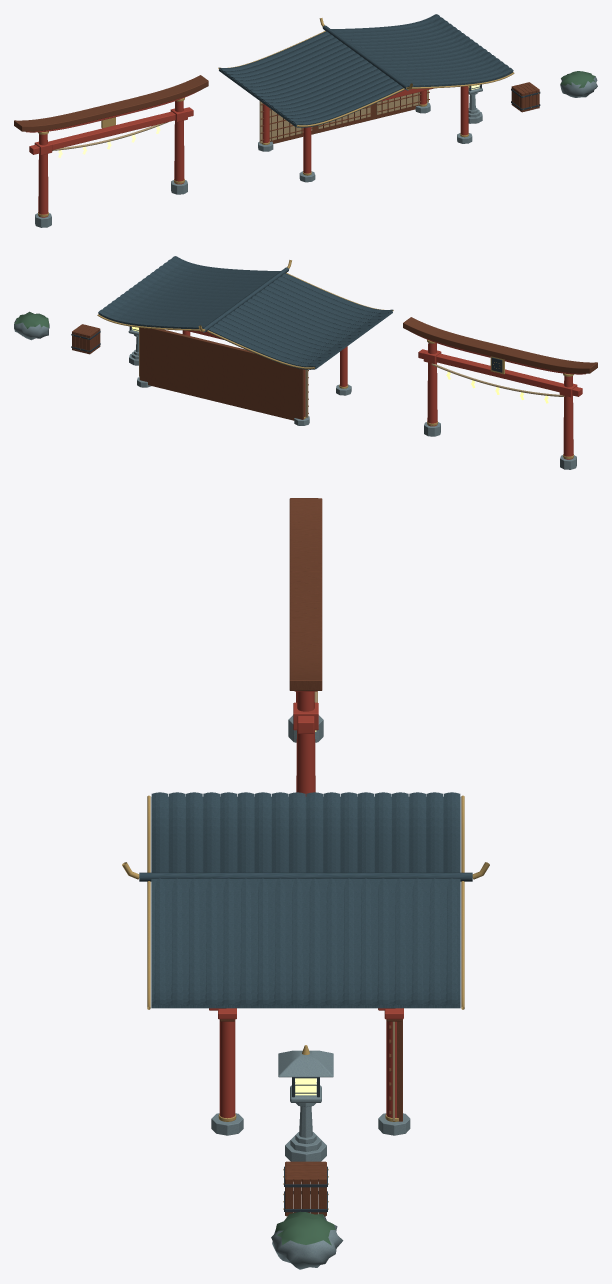
The model's file is environment-kit.glb.
3 renders of one model, top to bottom at view 1: azimuth 30°, elevation 25°; view 2: azimuth 150°, elevation 25°; view 3: azimuth 270°, elevation 25°, orthographic. The views are drawn at different scales.
Parts seen in each view (by area): view 1: Solid sweeping roof.001, Sculpted kasagi crown, Nuki crossbar, Tapered lacquer pillar, Tapered lacquer pillar.001, Recessed shoji panel, Rear wall, Recessed shoji panel.002, Solid sweeping roof, Rounded ornamental ridge, Weathered granite boulder, Rounded cedar column.003 (+5 smaller); view 2: Rear wall, Solid sweeping roof.001, Sculpted kasagi crown, Nuki crossbar, Tapered lacquer pillar, Tapered lacquer pillar.001, Solid sweeping roof, Rounded ornamental ridge, Weathered granite boulder, Upper moss growth, Sacred braided rope, Lacquer underbeam (+1 smaller); view 3: Solid sweeping roof.001, Sculpted kasagi crown, Rounded ornamental ridge, Solid sweeping roof, Rounded cedar column.003, Weathered granite boulder, Tapered lacquer pillar.001, Upper moss growth, Sculpted pagoda cap.
Boxes of the visible parts, left/top/right/bottom form: Solid sweeping roof.001: left=331, top=14, right=512, bottom=87; Sculpted kasagi crown: left=14, top=75, right=208, bottom=131; Nuki crossbar: left=29, top=107, right=193, bottom=154; Tapered lacquer pillar: left=38, top=134, right=48, bottom=217; Tapered lacquer pillar.001: left=174, top=101, right=184, bottom=184; Recessed shoji panel: left=259, top=101, right=312, bottom=143; Rear wall: left=270, top=103, right=418, bottom=143; Recessed shoji panel.002: left=376, top=90, right=428, bottom=114; Solid sweeping roof: left=219, top=69, right=404, bottom=127; Rounded ornamental ridge: left=322, top=25, right=409, bottom=90; Weathered granite boulder: left=560, top=76, right=597, bottom=97; Rounded cedar column.003: left=460, top=86, right=468, bottom=135; Rear wall: left=139, top=327, right=304, bottom=420; Solid sweeping roof.001: left=98, top=256, right=280, bottom=329; Sculpted kasagi crown: left=403, top=317, right=597, bottom=373; Nuki crossbar: left=418, top=349, right=582, bottom=396; Tapered lacquer pillar: left=563, top=376, right=573, bottom=459; Tapered lacquer pillar.001: left=427, top=343, right=437, bottom=426; Solid sweeping roof: left=206, top=310, right=392, bottom=369; Rounded ornamental ridge: left=202, top=267, right=288, bottom=332; Weathered granite boulder: left=14, top=319, right=49, bottom=340; Upper moss growth: left=14, top=311, right=48, bottom=328; Sacred braided rope: left=431, top=363, right=564, bottom=396; Lacquer underbeam: left=411, top=332, right=585, bottom=374; Solid sweeping roof.001: left=151, top=879, right=460, bottom=1008; Sculpted kasagi crown: left=289, top=498, right=322, bottom=690; Rounded ornamental ridge: left=139, top=872, right=472, bottom=881; Solid sweeping roof: left=151, top=796, right=460, bottom=872; Rounded cedar column.003: left=219, top=1019, right=235, bottom=1118; Weathered granite boulder: left=271, top=1215, right=343, bottom=1269; Tapered lacquer pillar.001: left=296, top=691, right=315, bottom=796; Upper moss growth: left=275, top=1211, right=335, bottom=1245; Sculpted pagoda cap: left=278, top=1050, right=333, bottom=1077.
Size of the model in its own units: 27.2 by 4.9 by 7.51.
Materials: 9 (3 with a texture image).
